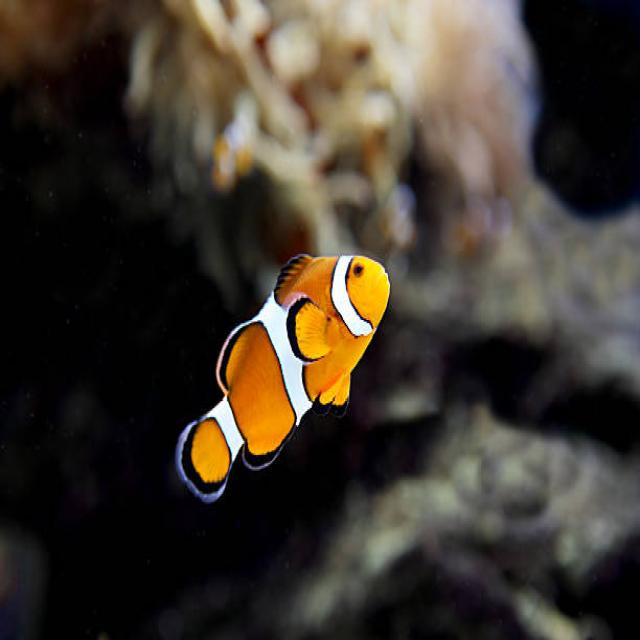ClownFish: (173, 250, 391, 505)
